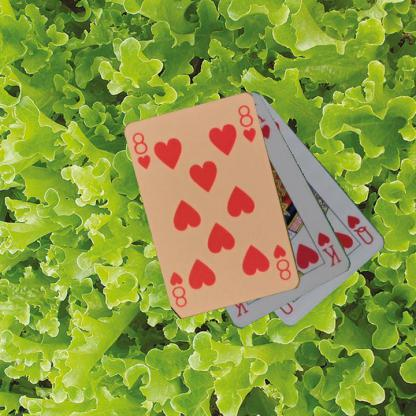8h: (130, 130, 152, 172), (270, 242, 293, 282)
Kh: (315, 229, 343, 268)
Qh: (344, 212, 376, 246)
